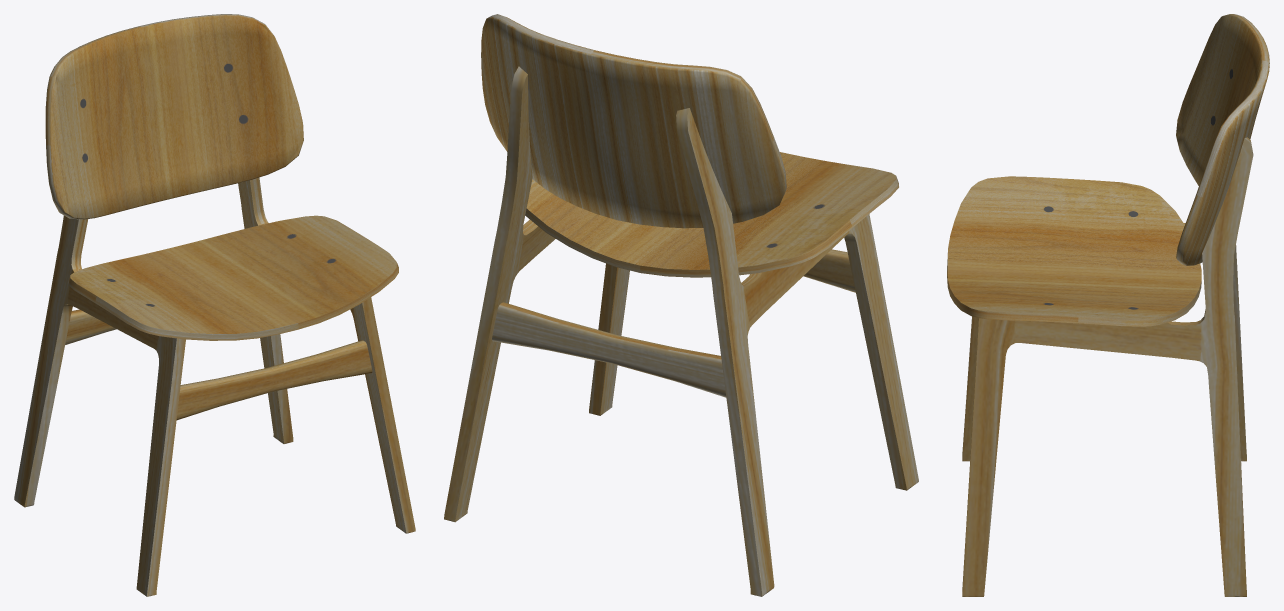
The picture shows the model from 3 angles, left to right: view 1: azimuth 30°, elevation 25°; view 2: azimuth 150°, elevation 25°; view 3: azimuth 270°, elevation 25°; orthographic projection. The views are drawn at different scales.
Parts seen in each view (by area): view 1: chair; view 2: chair; view 3: chair.
Boxes of the visible parts, x1,y1,x2,y2 form: chair: (14, 14, 415, 596); chair: (444, 14, 918, 596); chair: (947, 14, 1269, 596).
Bounding box in the file's own units: 264 × 408 × 256.
1 material, 1 textured.
